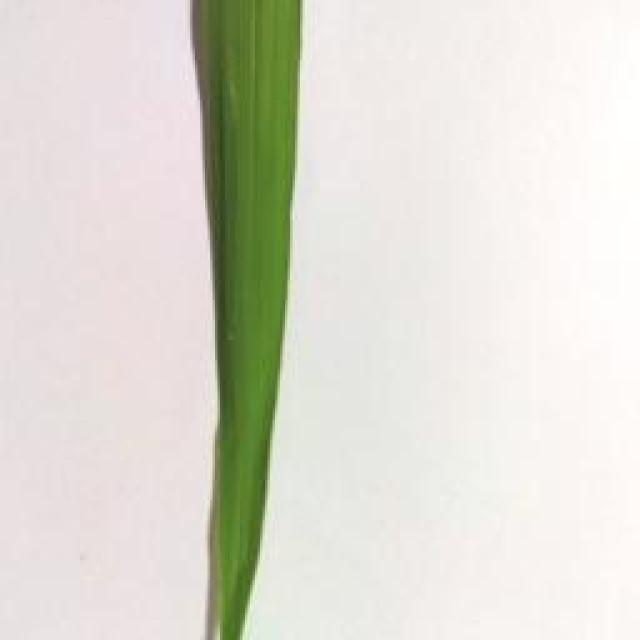Healthy-Plant: (198, 0, 304, 640)
